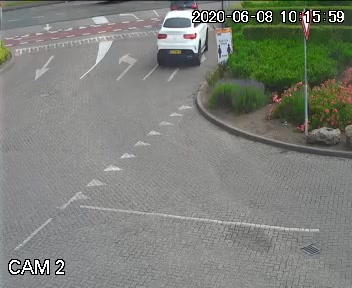car: (147, 11, 214, 70), (161, 0, 207, 13)
